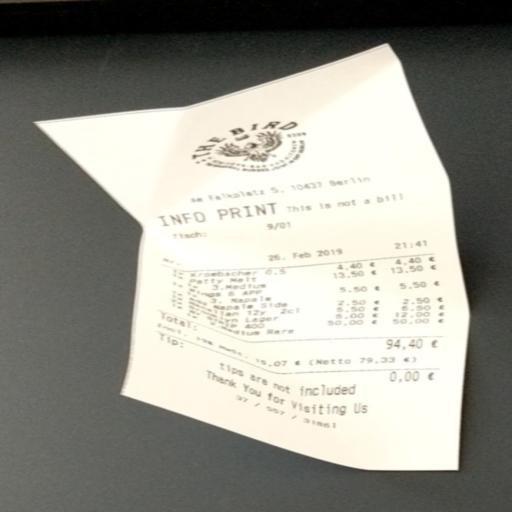paper: (23, 45, 508, 505)
